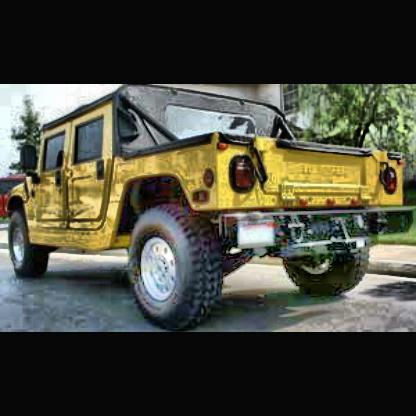AM General Hummer SUV 2000: (2, 85, 416, 331)
